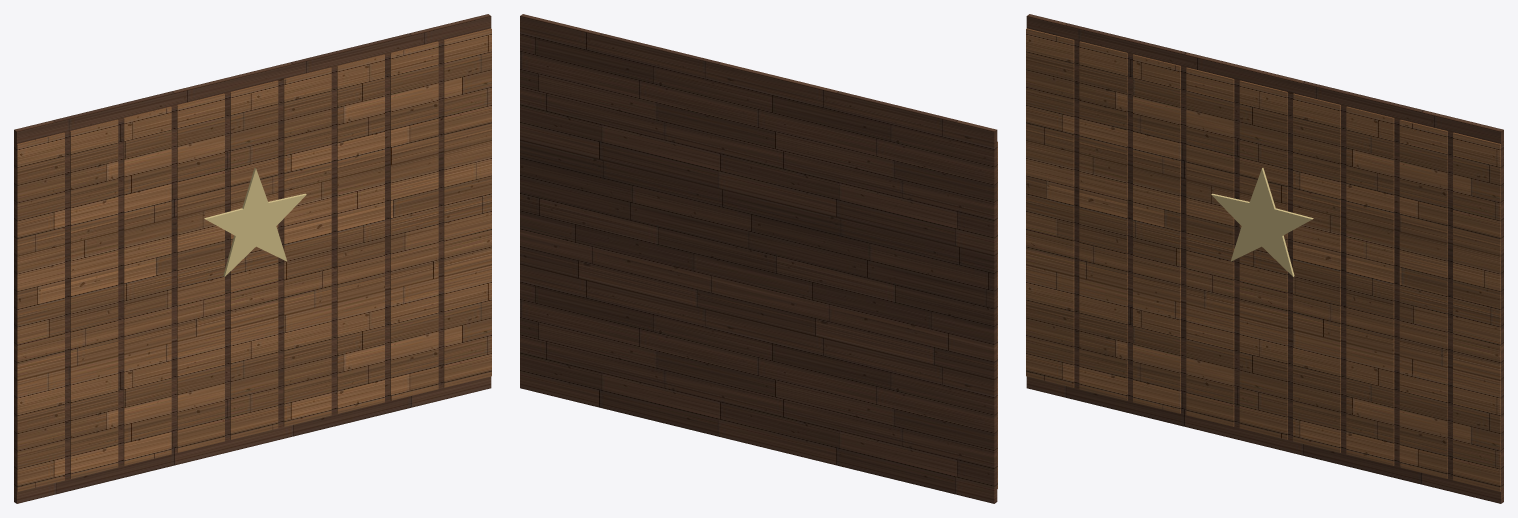
The model's file is lobby_panel.glb.
3 renders of one model, left to right at view 1: azimuth 30°, elevation 25°; view 2: azimuth 150°, elevation 25°; view 3: azimuth 330°, elevation 25°, orthographic.
Parts seen in each view (by area): view 1: lobby_panel_wood, lobby_panel_dkwood, lobby_panel_gold; view 2: lobby_panel_dkwood; view 3: lobby_panel_wood, lobby_panel_dkwood, lobby_panel_gold.
Boxes of the visible parts, x1,y1,x2,y2 form: lobby_panel_wood: (17, 28, 491, 491); lobby_panel_dkwood: (14, 14, 491, 503); lobby_panel_gold: (204, 168, 306, 276); lobby_panel_dkwood: (520, 14, 997, 503); lobby_panel_wood: (1026, 28, 1500, 491); lobby_panel_dkwood: (1026, 14, 1503, 503); lobby_panel_gold: (1211, 168, 1313, 276).
Bounding box in the file's own units: 4 × 3 × 0.07.
Materials: 3 (2 with a texture image).
